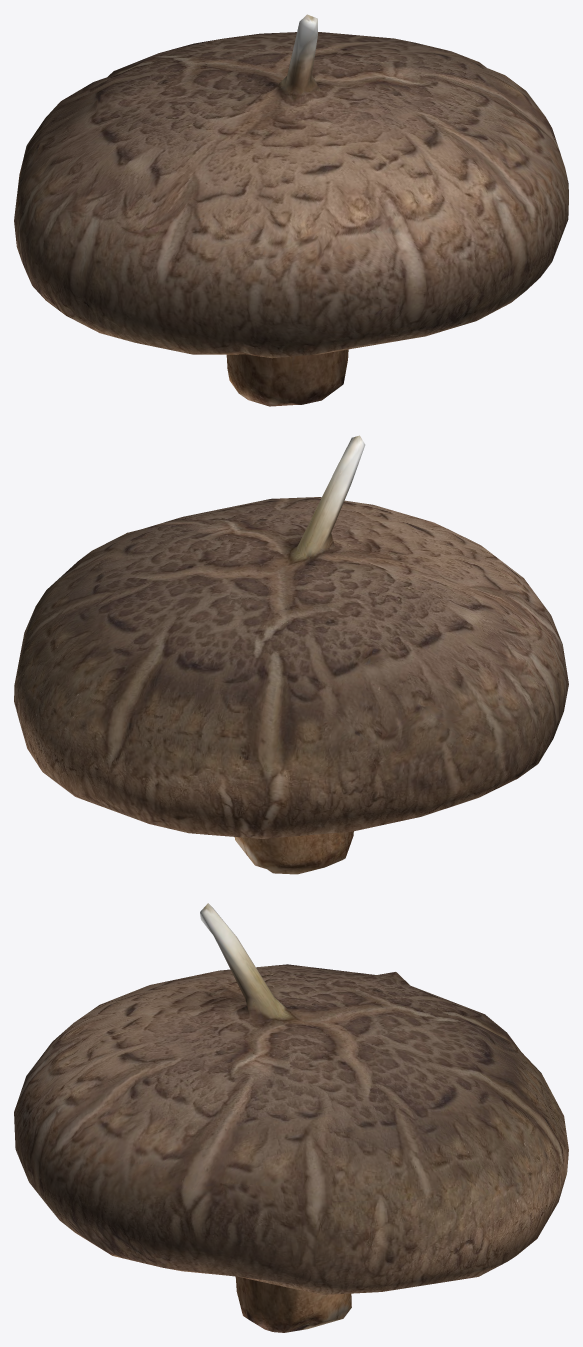
File: champignon-de-parie.glb
3 renders of one model, top to bottom at view 1: azimuth 30°, elevation 25°; view 2: azimuth 150°, elevation 25°; view 3: azimuth 270°, elevation 25°, orthographic. The views are drawn at different scales.
Visible parts, largest first — view 1: mushroom_13; view 2: mushroom_13; view 3: mushroom_13.
Boxes of the visible parts, left/top/right/bottom form: mushroom_13: left=14, top=14, right=568, bottom=406; mushroom_13: left=14, top=435, right=568, bottom=874; mushroom_13: left=14, top=903, right=568, bottom=1332.
Bounding box in the file's own units: 9.13 × 7.18 × 8.96.
1 material, 1 textured.
